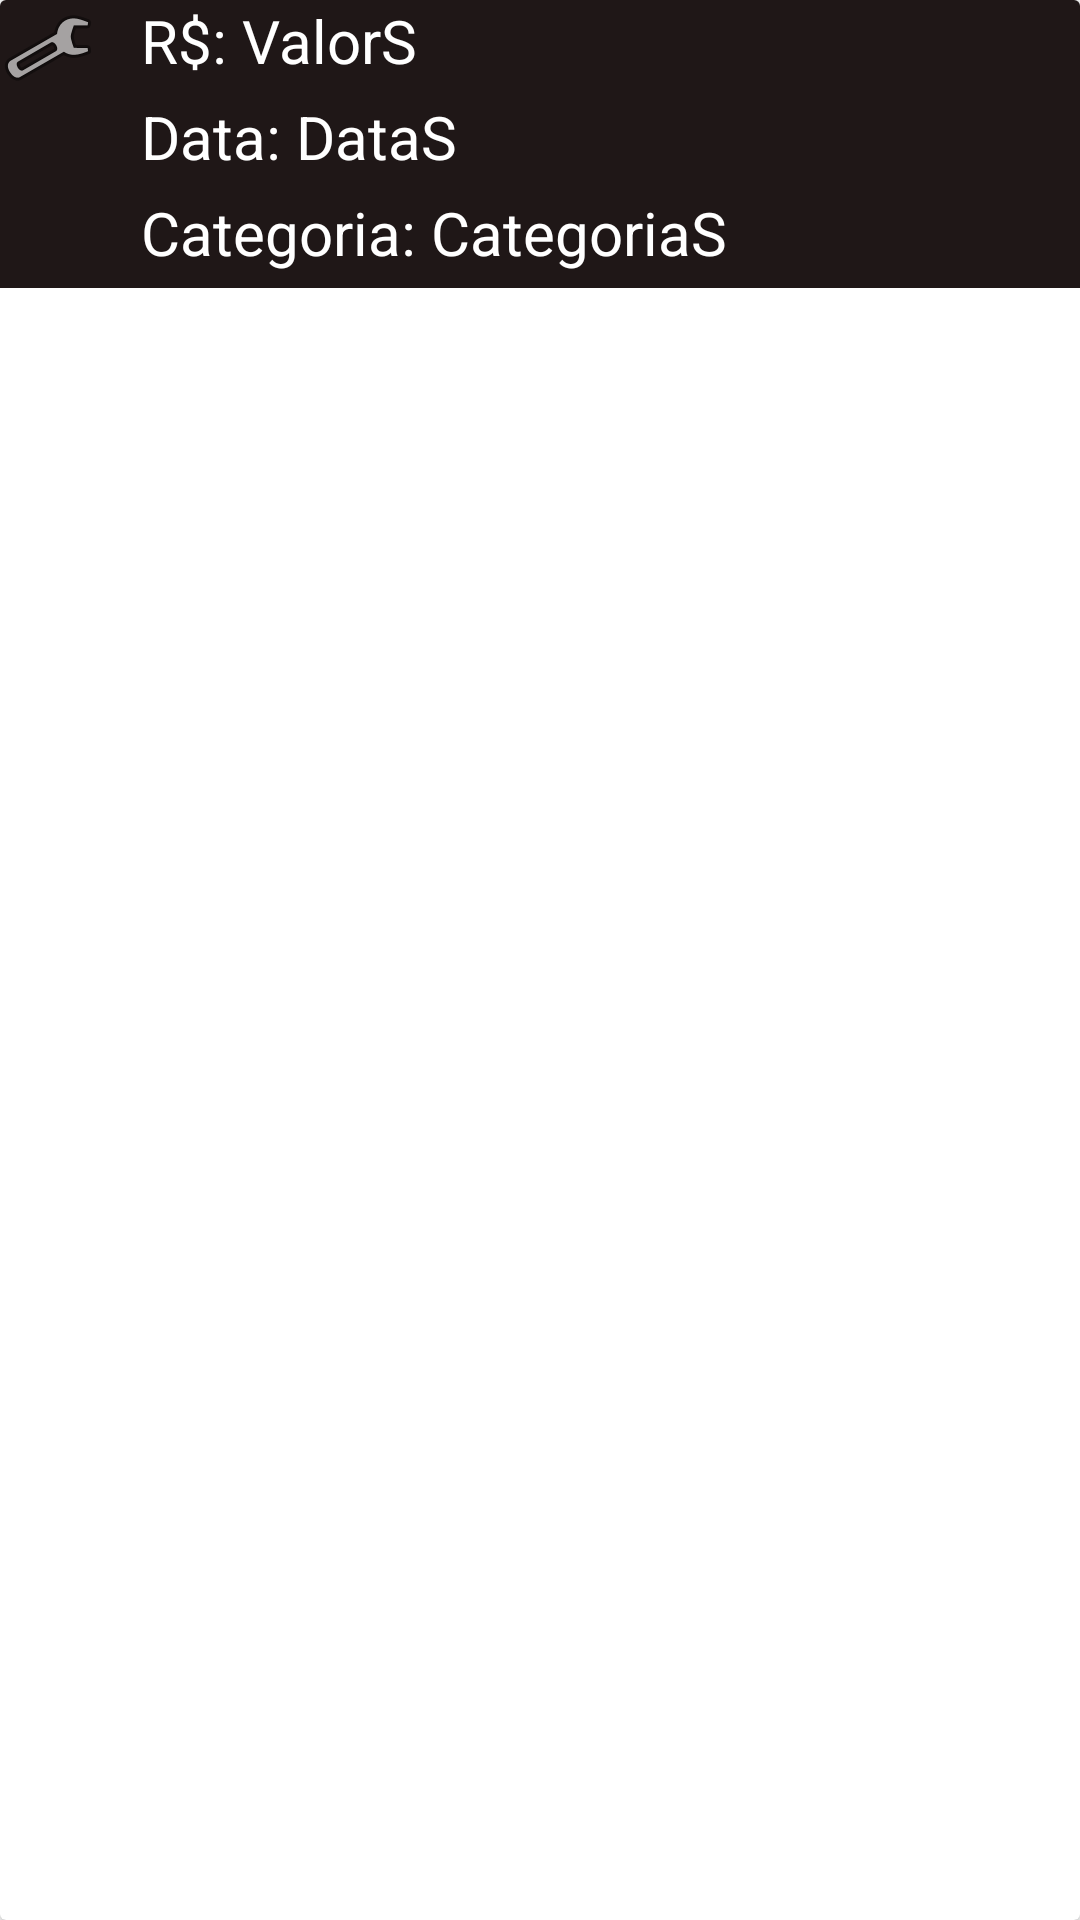

Icons on this 1080w x 1920h Android screen, each with its box as [x1, y1, x2, y2]:
manage: [0, 0, 88, 78]
